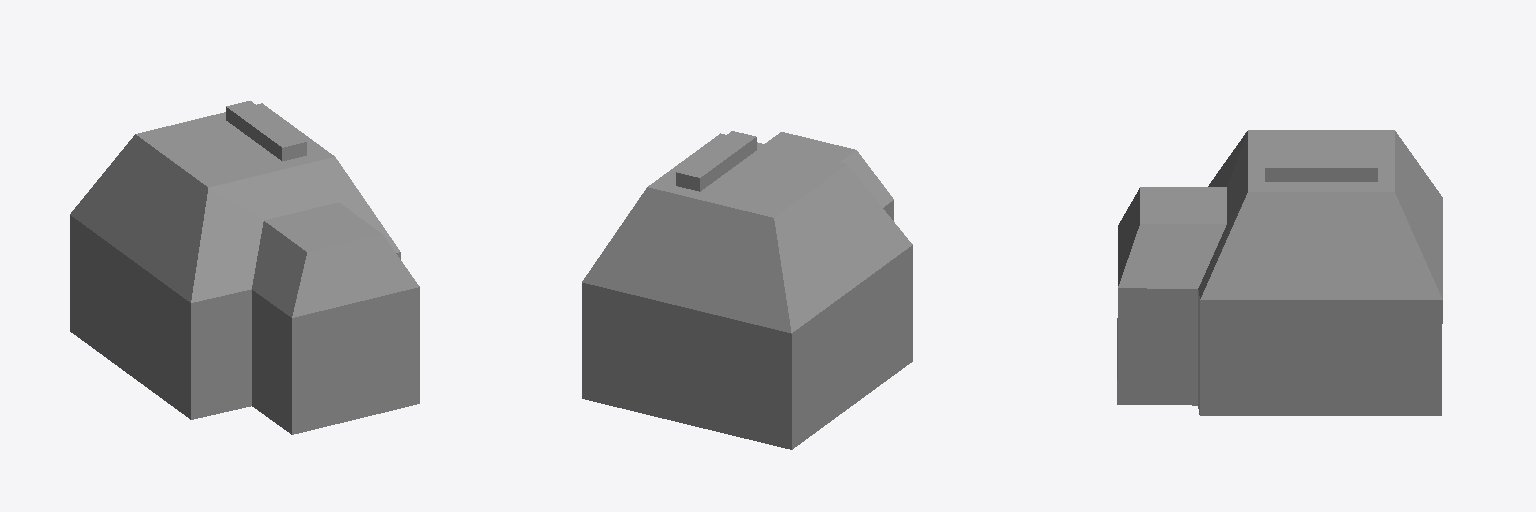
File: depot.obj
The picture shows the model from 3 angles: view 1: azimuth 30°, elevation 25°; view 2: azimuth 150°, elevation 25°; view 3: azimuth 270°, elevation 25°; orthographic projection.
Visible parts, largest first — view 1: Cube; view 2: Cube; view 3: Cube.
Boxes of the visible parts, box(x1,y1,x2,y2) form: Cube: box(70, 101, 419, 434); Cube: box(582, 131, 912, 449); Cube: box(1117, 130, 1442, 415).
Bounding box in the file's own units: 42.57 × 42.3 × 57.12.